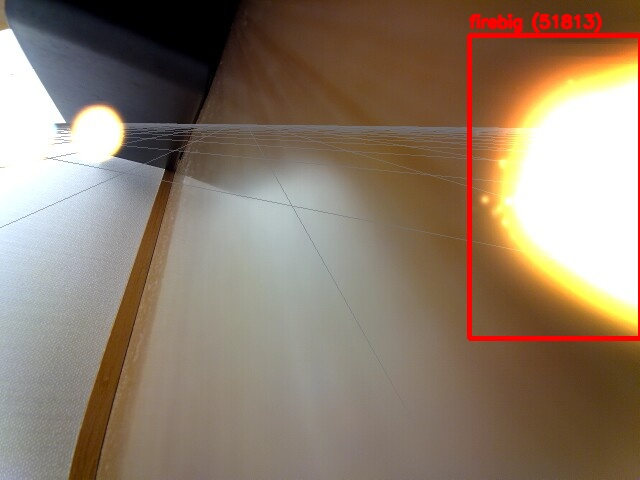firebig: (469, 35, 640, 338)
